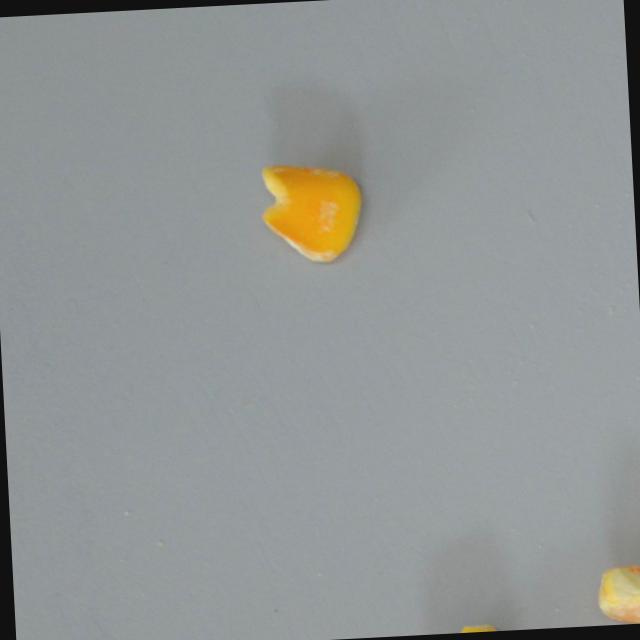pelicula: (258, 158, 365, 265), (598, 563, 640, 626)
